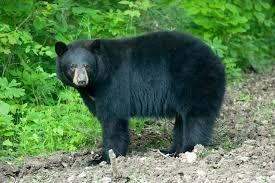bear: (55, 30, 227, 164)
